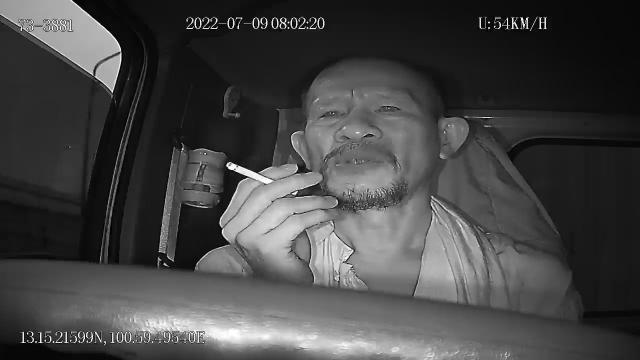SafeDriving: (311, 101, 349, 127), (369, 94, 409, 118)
Smoking: (223, 160, 299, 197)
